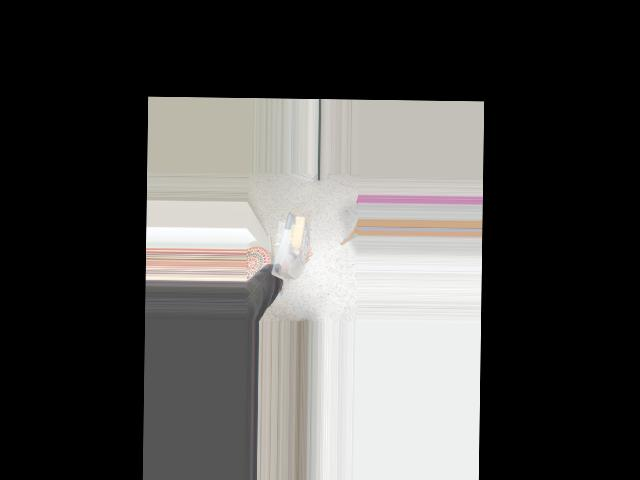cheese: (269, 212, 311, 279)
